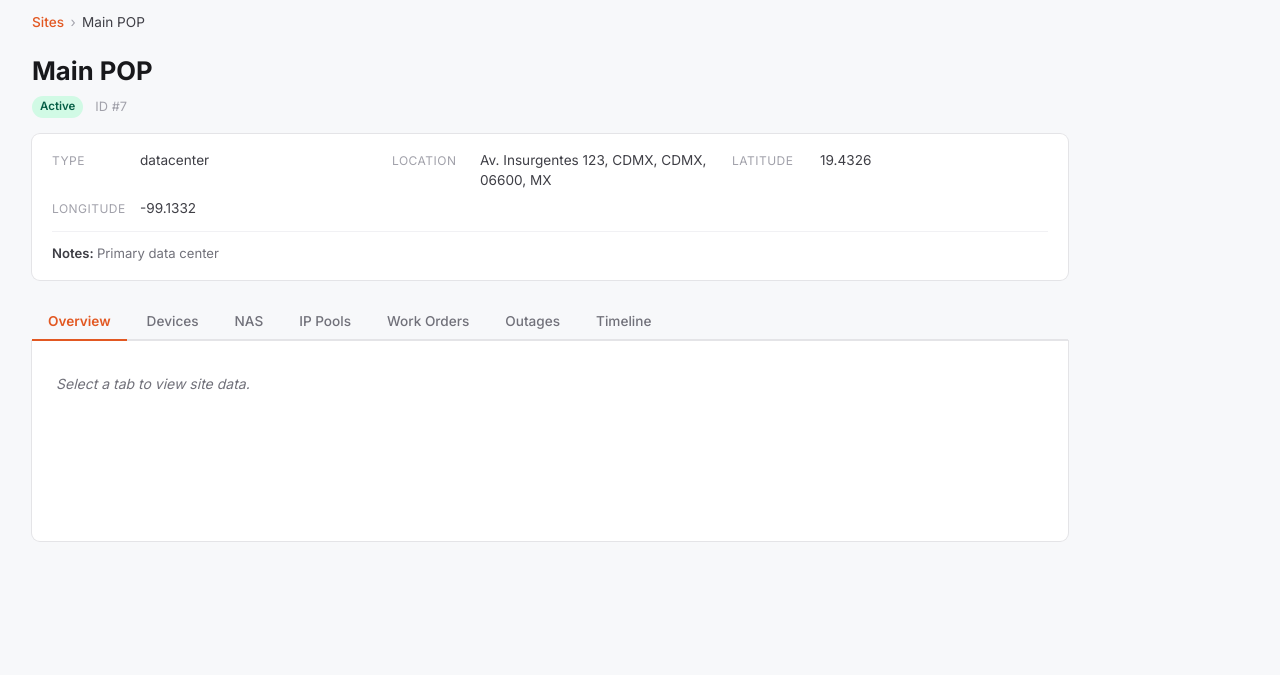
Test case: SiteDetail — create work order › collapses the form and refetches the site work-order list on success
Expected: the heading "Main POP" is shown, top-left (32, 52), bottom-right (152, 91)
Click the button "Work Orders" at {"x": 428, "y": 322}, box top-left (371, 304), bottom-right (485, 341)
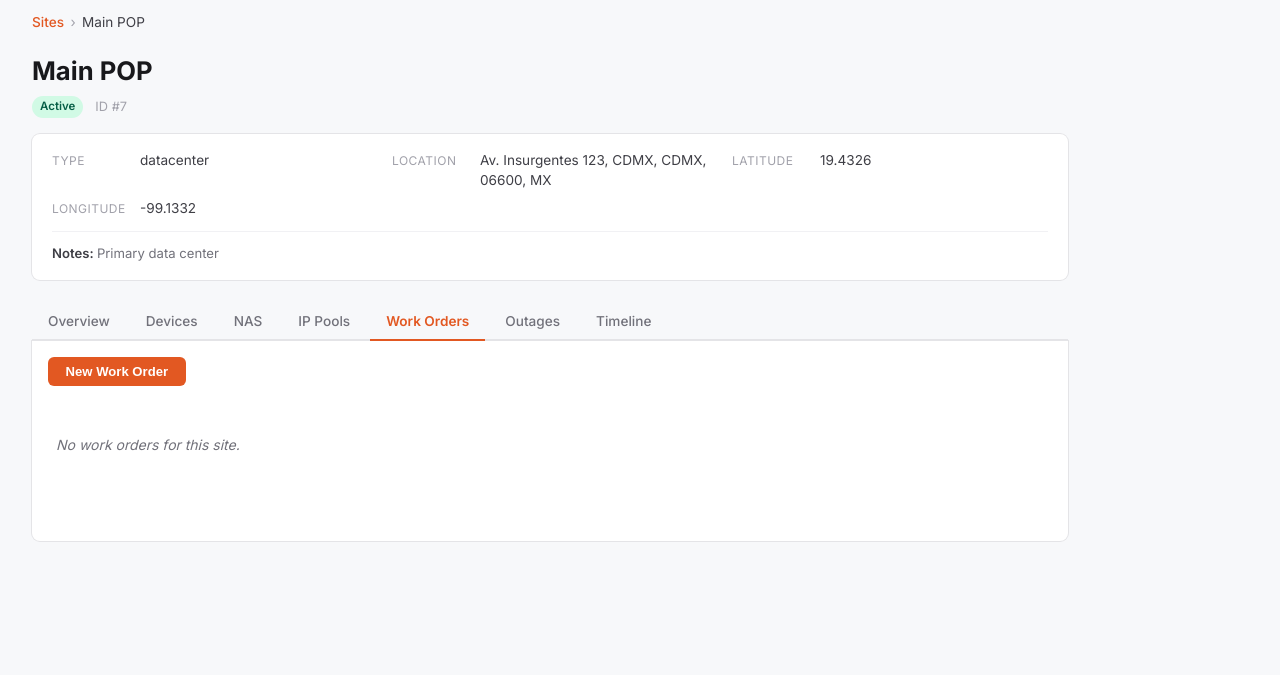
Click the button "New Work Order" at {"x": 117, "y": 371}, box top-left (48, 357), bottom-right (186, 386)
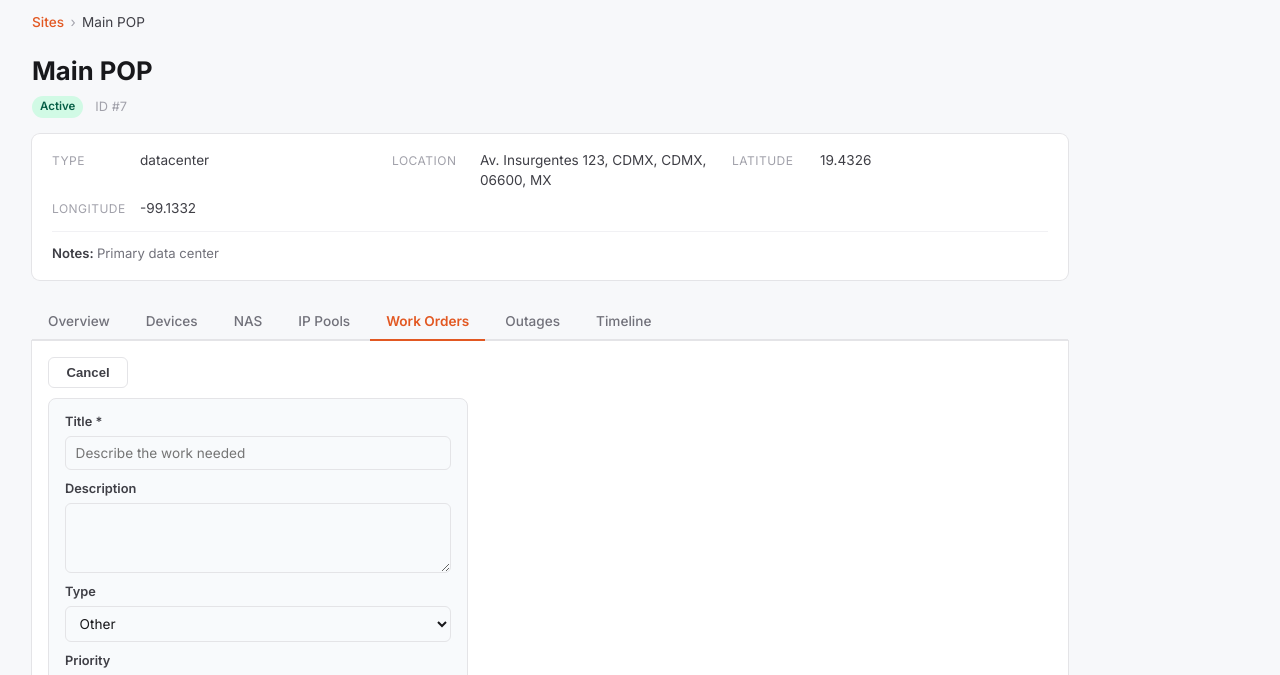
Type "Replace antenna" into the field with placeholder "Describe the work needed" at {"x": 258, "y": 453}, box top-left (65, 436), bottom-right (451, 470)
(page scrolled)
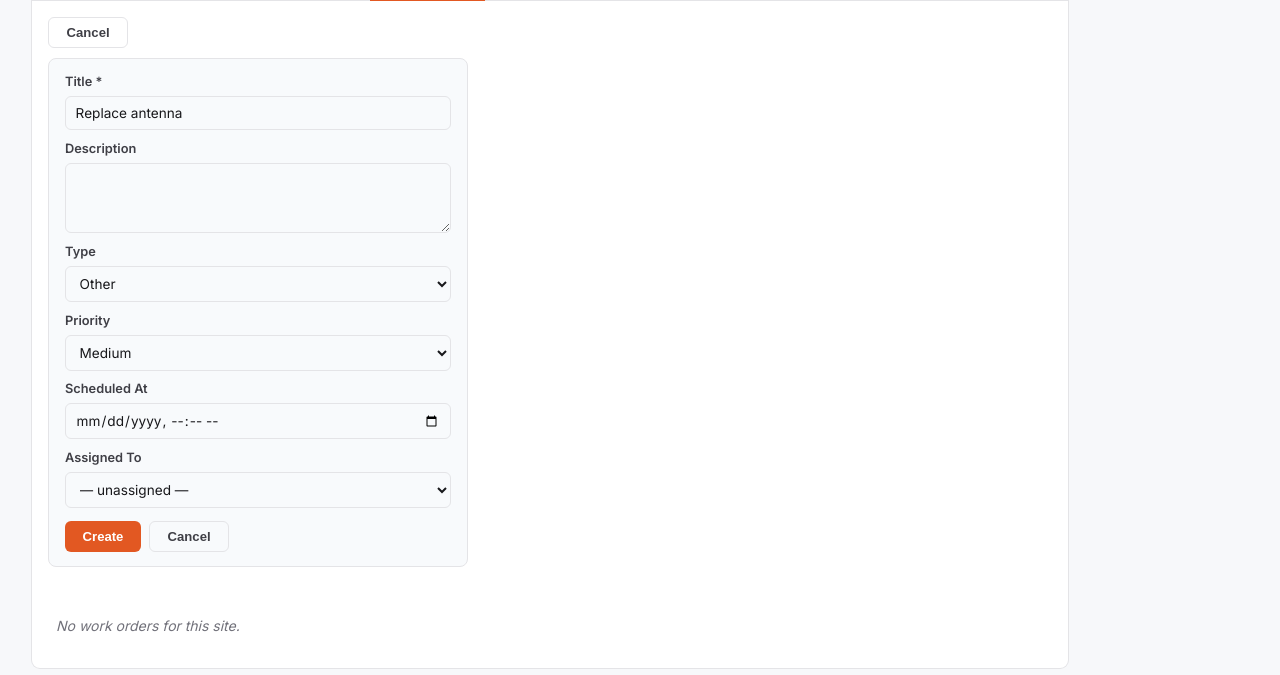
Click the button "Create" at {"x": 103, "y": 537}, box top-left (65, 521), bottom-right (141, 552)
(page scrolled)
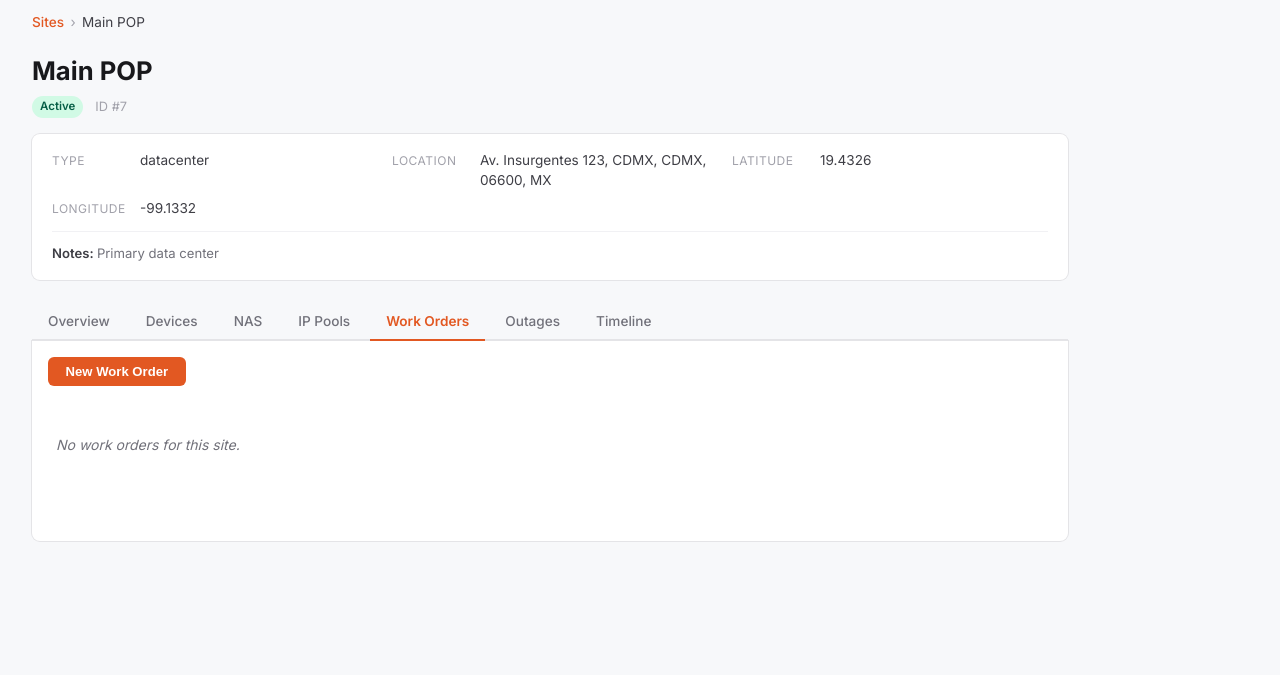
Expected: the button "New Work Order" is shown, top-left (48, 357), bottom-right (186, 386)
